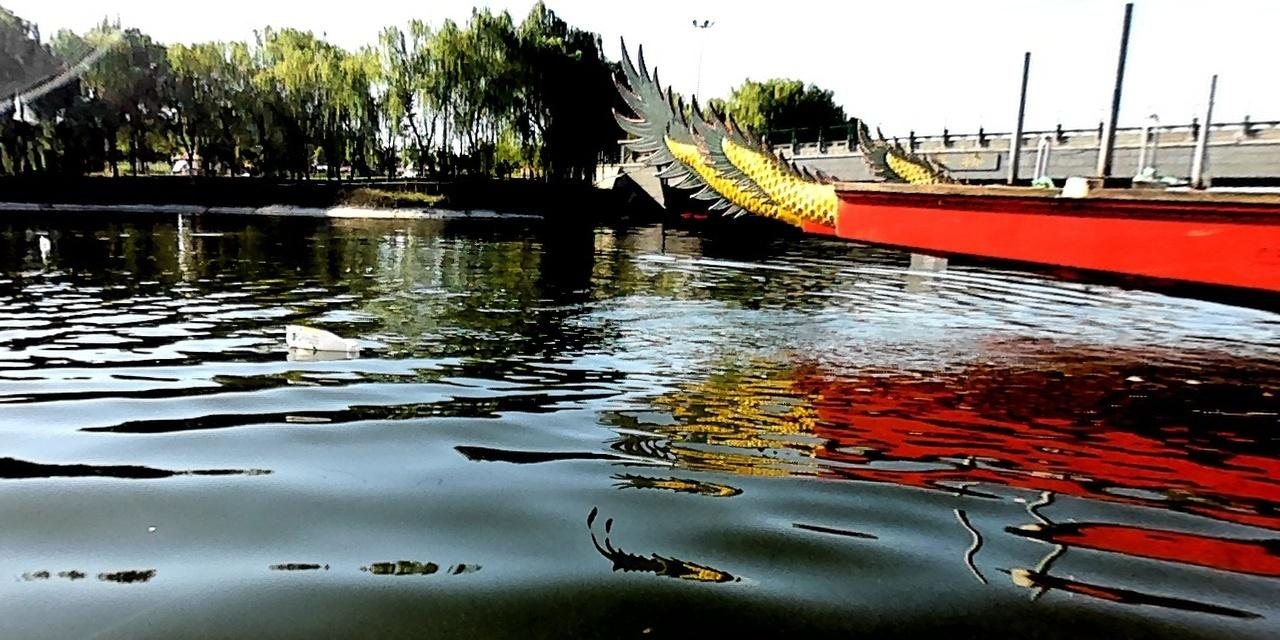bottle: (282, 328, 366, 354), (36, 235, 52, 251)
